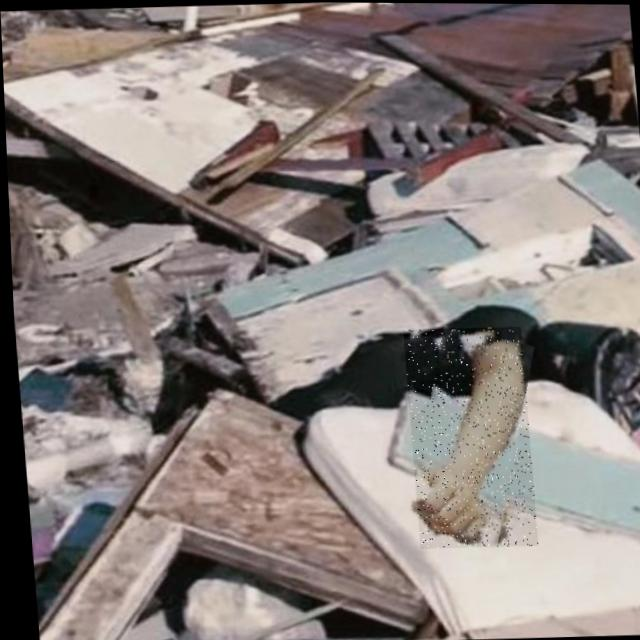Person in Rubble: (399, 325, 533, 548)
